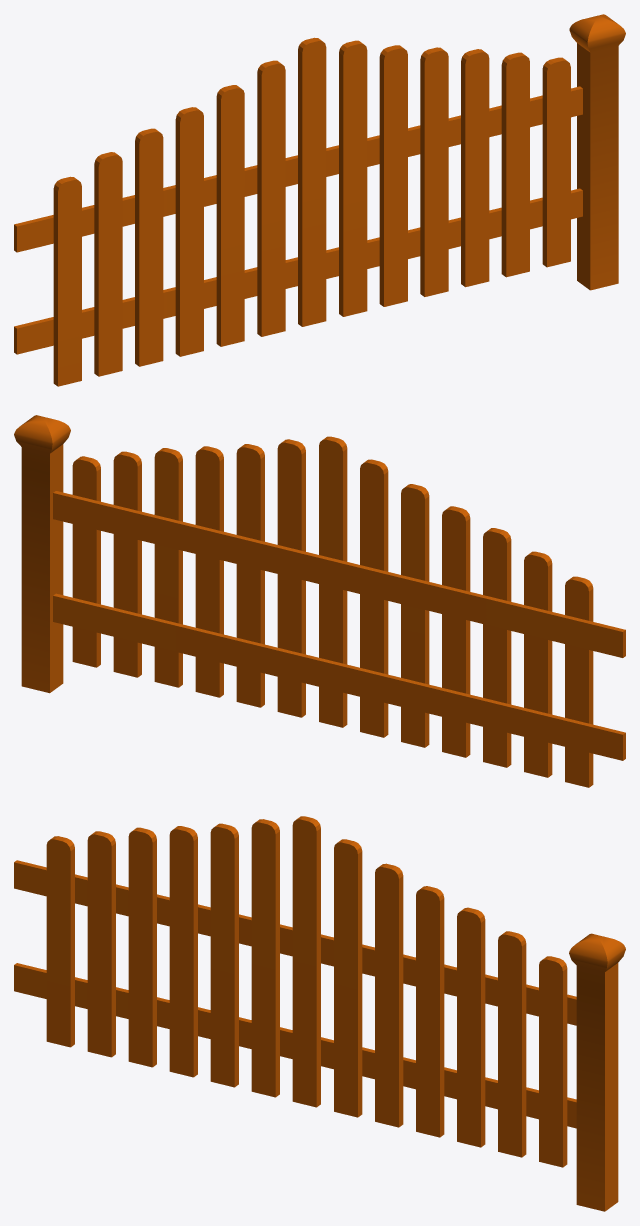
The model's file is Fence_1.1.fbx.
The picture shows the model from 3 angles, top to bottom: view 1: azimuth 30°, elevation 25°; view 2: azimuth 150°, elevation 25°; view 3: azimuth 330°, elevation 25°; orthographic projection.
Visible parts, largest first — view 1: Fence_1.1; view 2: Fence_1.1; view 3: Fence_1.1.
Boxes of the visible parts, left/top/right/bottom form: Fence_1.1: left=14, top=14, right=625, bottom=386; Fence_1.1: left=14, top=415, right=625, bottom=787; Fence_1.1: left=14, top=816, right=625, bottom=1211.
Size of the model in its own units: 305 by 152 by 16.06.
1 material, 1 textured.
